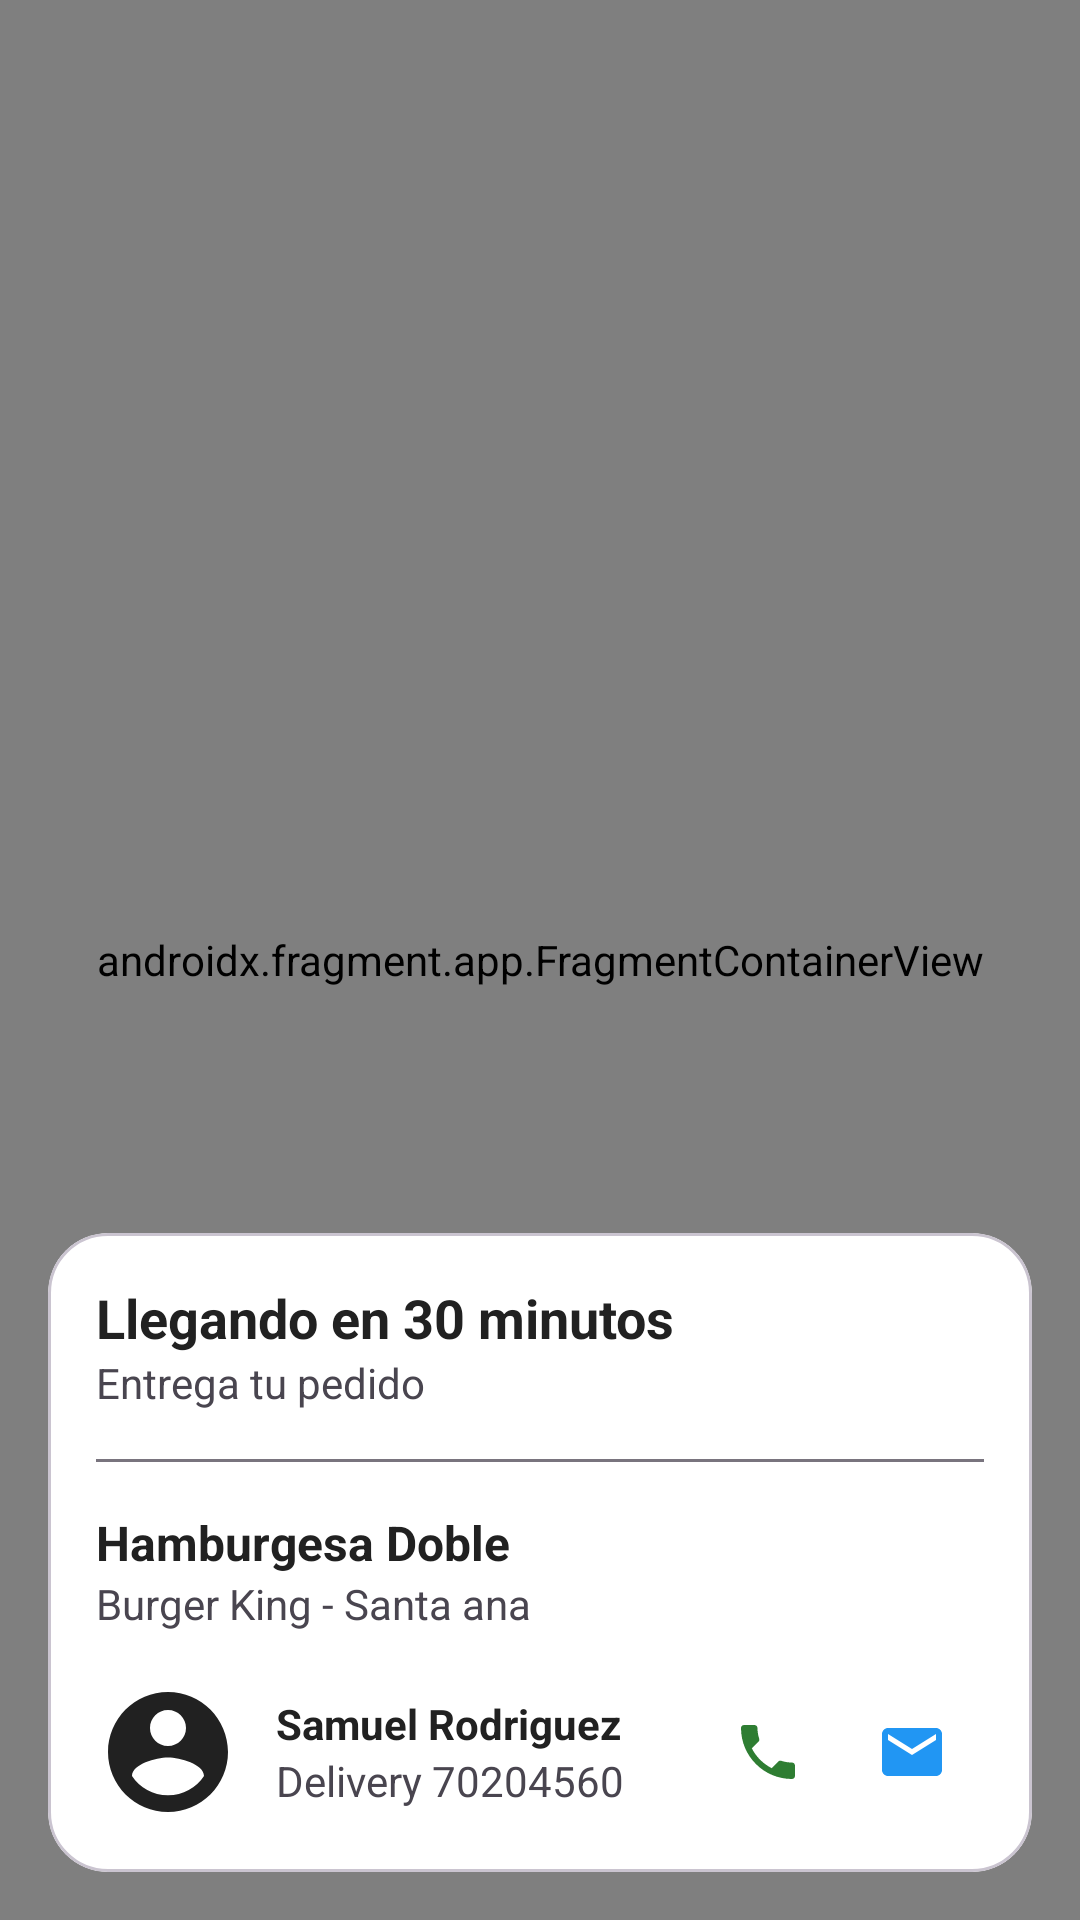

Screen size 1080x1920. Icon name, then its center in pixels as [x,y]:
call: [768,1752]
message: [912,1752]
profile: [168,1752]
